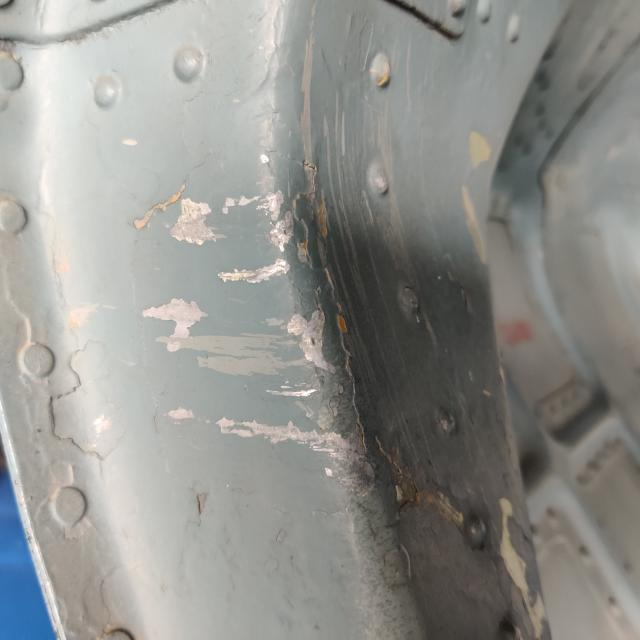paint-off: (105, 149, 408, 508)
